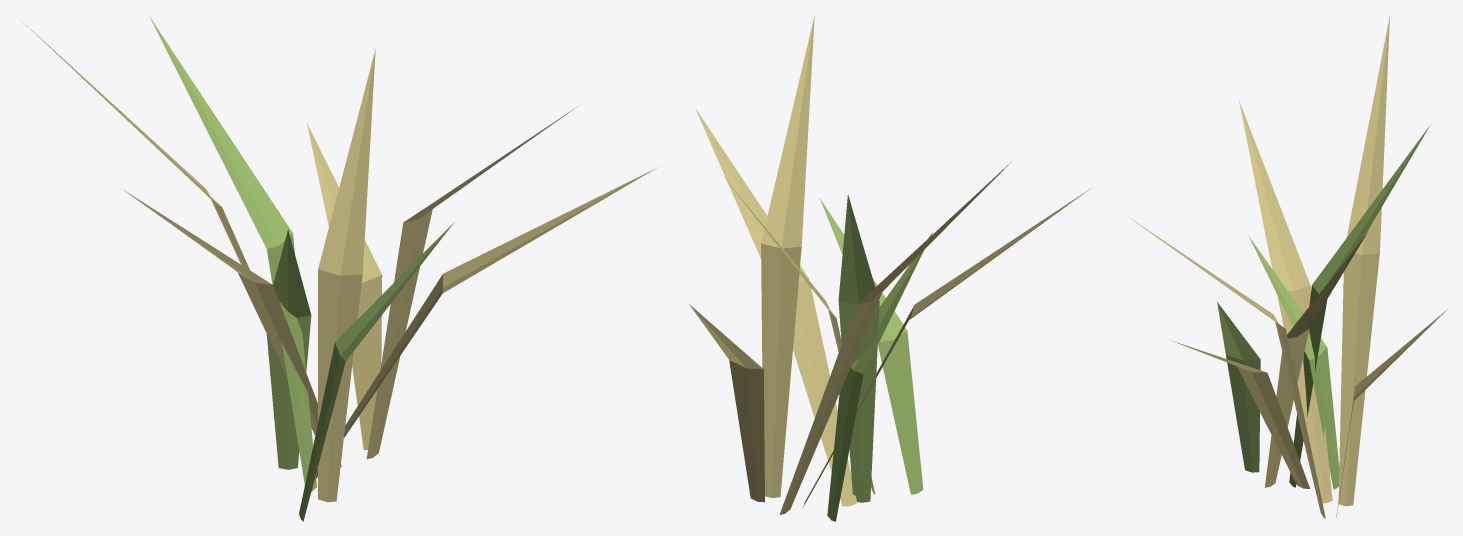
File: grass_tuft.glb
The picture shows the model from 3 angles, left to right: view 1: azimuth 30°, elevation 25°; view 2: azimuth 150°, elevation 25°; view 3: azimuth 270°, elevation 25°; orthographic projection. The views are drawn at different scales.
Parts seen in each view (by area): view 1: SG_Grass_Tuft; view 2: SG_Grass_Tuft; view 3: SG_Grass_Tuft.
Boxes of the visible parts, x1,y1,x2,y2 form: SG_Grass_Tuft: (20,16,657,521); SG_Grass_Tuft: (688,15,1090,521); SG_Grass_Tuft: (1126,15,1447,518).
Bounding box in the file's own units: 0.8487 × 0.79 × 0.6099.
